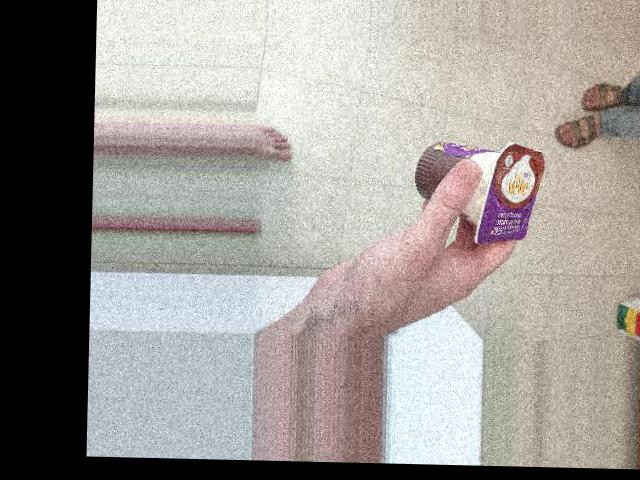milky: (465, 96, 553, 226)
